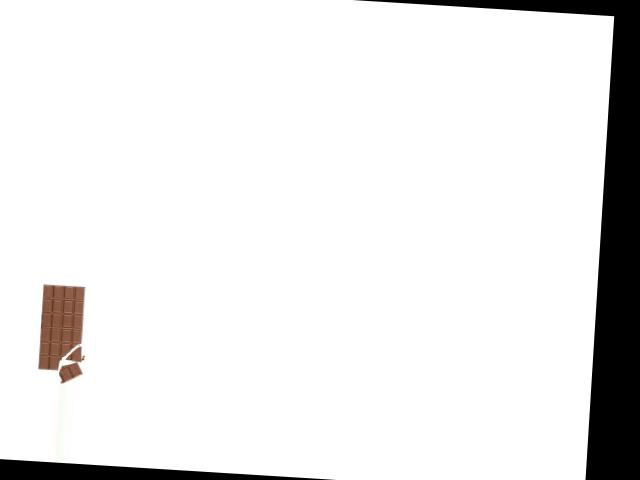chocolate: (30, 282, 98, 385)
